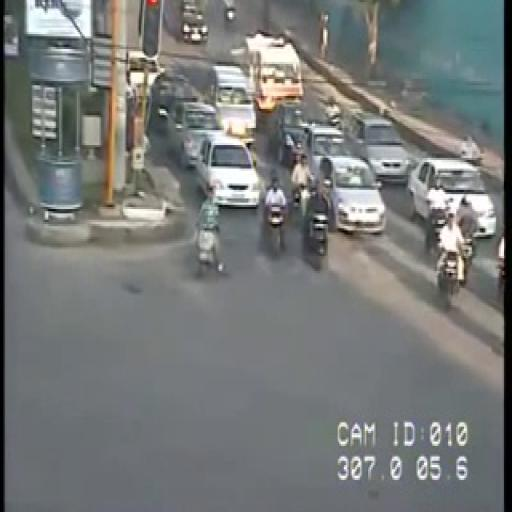Car: (407, 158, 498, 236), (320, 157, 386, 235), (196, 136, 260, 206), (246, 34, 303, 112), (350, 116, 412, 184), (152, 72, 204, 132), (213, 92, 257, 147), (179, 114, 221, 170), (275, 103, 309, 165), (208, 64, 255, 101), (180, 1, 208, 43)
Motor: (193, 187, 225, 281), (438, 212, 468, 287), (304, 180, 330, 259), (264, 176, 288, 251), (426, 177, 448, 249), (456, 196, 478, 258), (290, 154, 312, 214), (324, 96, 342, 127)
